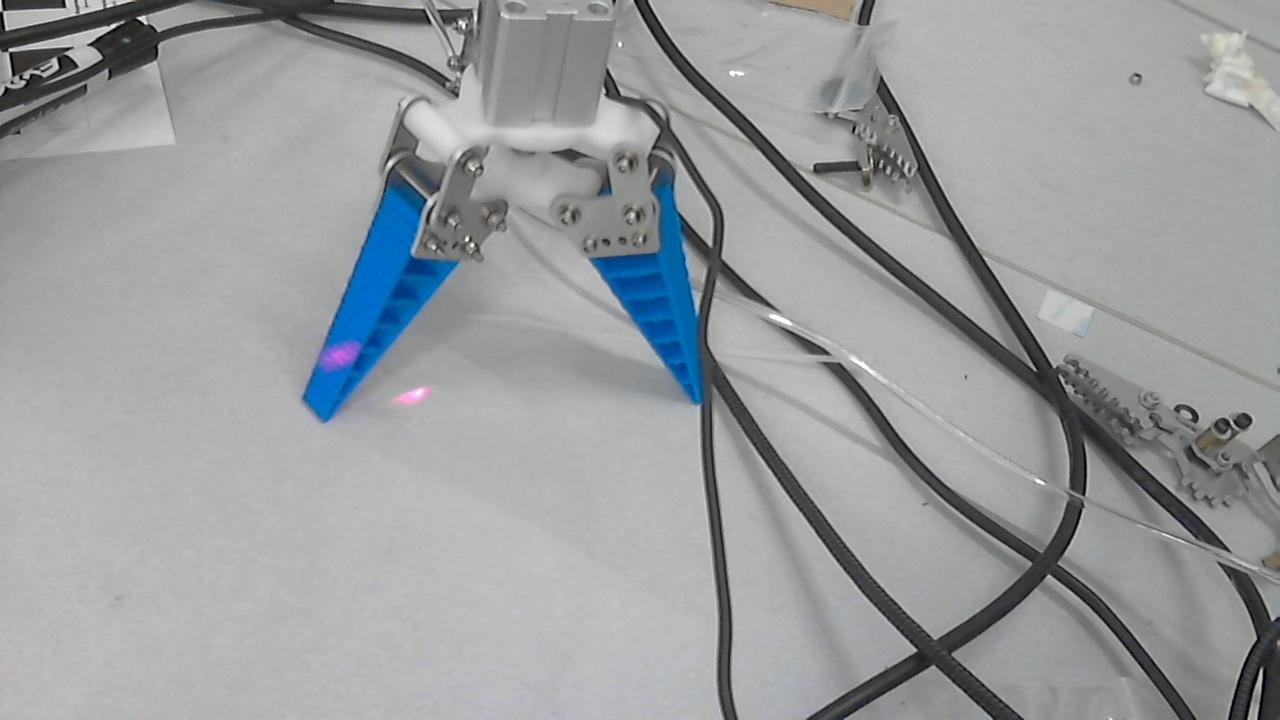Object robotic gripper finger assembly - Material plastic - Color blue - Pdfname: (293, 321, 371, 381)
